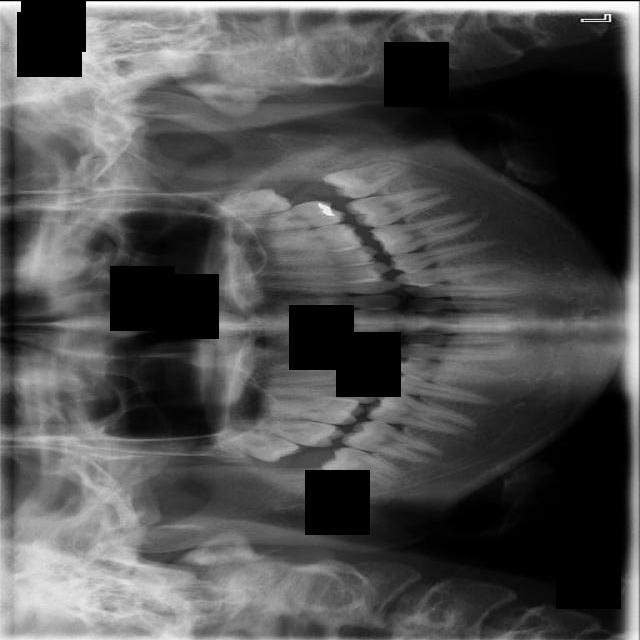3M ESPE Implant: (214, 426, 304, 467)
52: (294, 193, 348, 233)
73: (572, 24, 580, 27)
BioHorizons Implant: (232, 197, 346, 231)
BioLife Implant: (204, 185, 295, 220)
Biomet 3i Implant: (320, 155, 413, 205)
Blue Sky Bio Implant: (344, 184, 452, 231)
Caries: (222, 404, 347, 452)
Implant: (340, 413, 446, 466)
Keystone Dental Implant: (319, 441, 410, 489)
